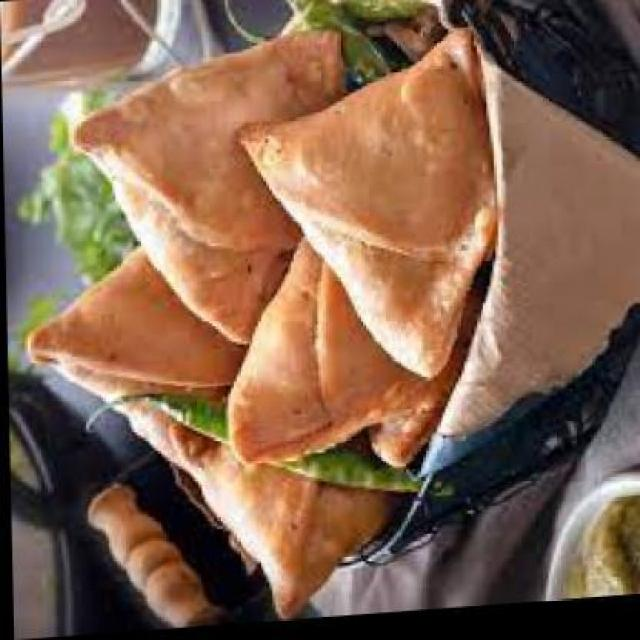samosa: (237, 31, 498, 394), (71, 34, 349, 354), (224, 228, 470, 482), (24, 238, 250, 484), (169, 405, 408, 629)
